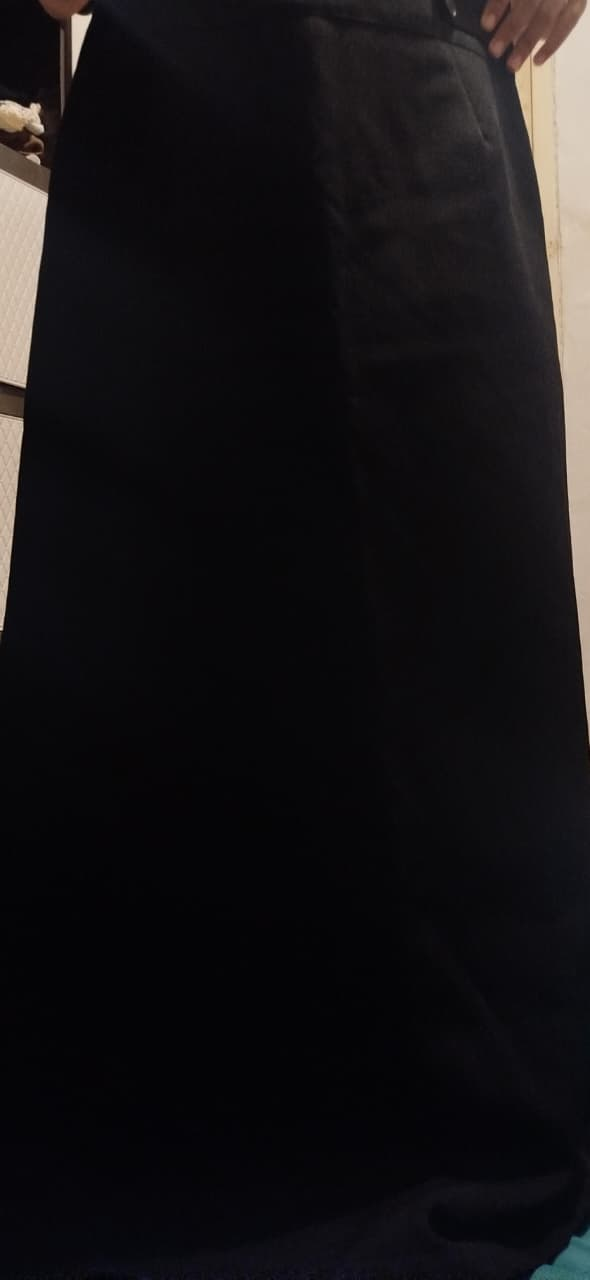rok_benar: (77, 24, 556, 1217)
